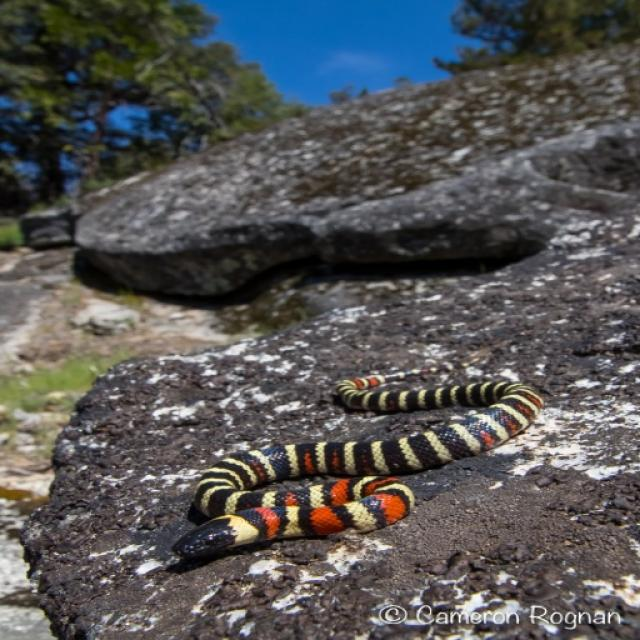snake: (175, 356, 554, 568)
